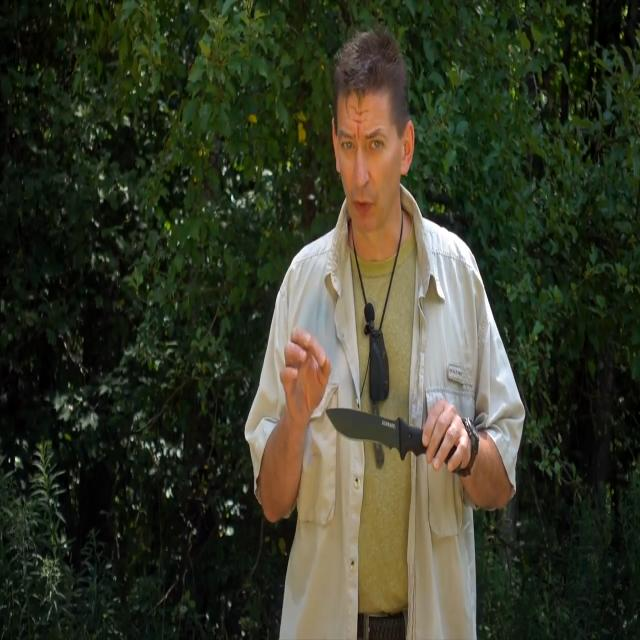knife: (325, 396, 419, 466)
